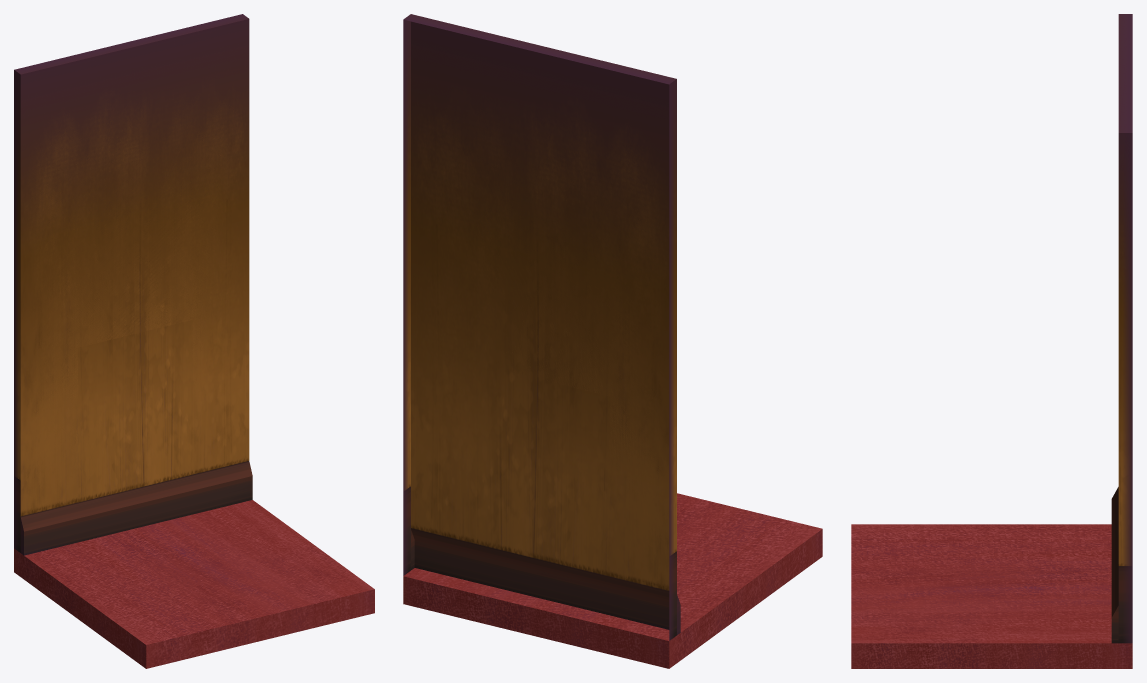
The model's file is enviro.glb.
The picture shows the model from 3 angles, left to right: view 1: azimuth 30°, elevation 25°; view 2: azimuth 150°, elevation 25°; view 3: azimuth 270°, elevation 25°; orthographic projection. The views are drawn at different scales.
Visible parts, largest first — view 1: wall, doorway, floor; view 2: wall, doorway, floor; view 3: floor, wall, doorway.
Part boxes in pixels (bbox=[...]): wall: bbox=[14, 14, 252, 555]; doorway: bbox=[20, 19, 252, 555]; floor: bbox=[14, 500, 374, 668]; wall: bbox=[403, 14, 680, 640]; doorway: bbox=[411, 22, 680, 634]; floor: bbox=[403, 493, 822, 668]; floor: bbox=[851, 524, 1132, 668]; wall: bbox=[1111, 14, 1132, 643]; doorway: bbox=[1111, 487, 1118, 643].
Bounding box in the file's own units: 2 × 4.2 × 2.
2 materials, 2 textured.
